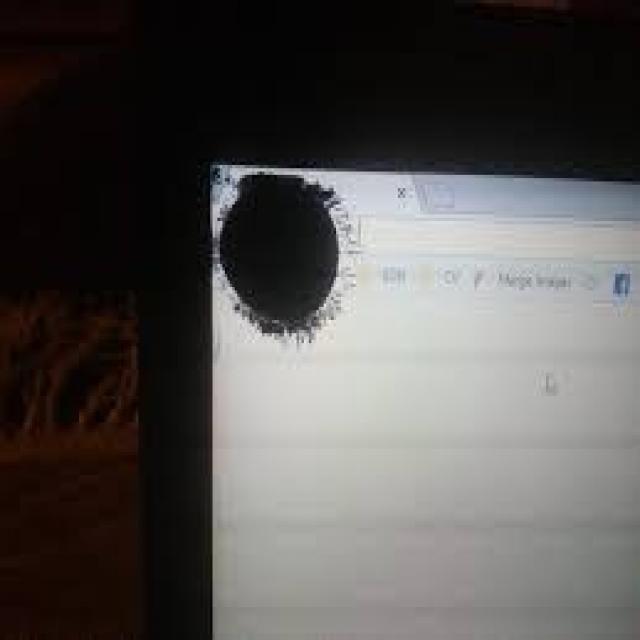Screen cracks: (215, 172, 376, 366)
